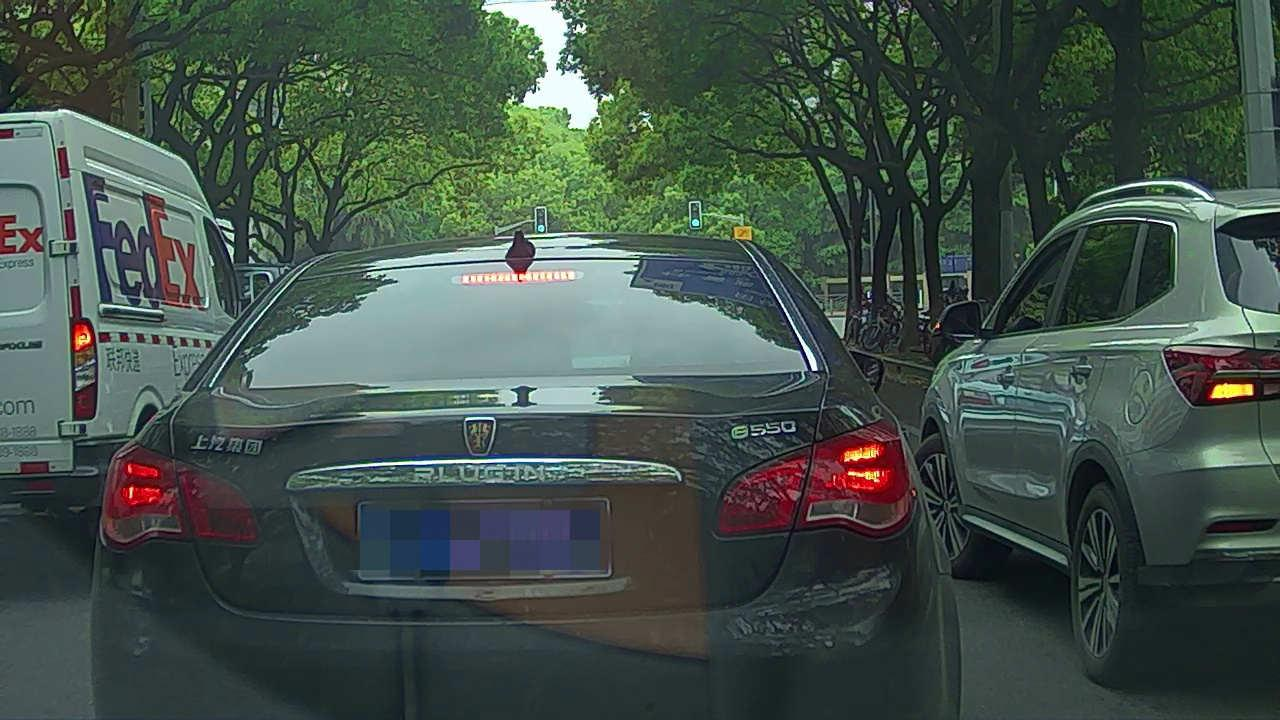traffic_light: (689, 202, 702, 229), (535, 207, 547, 234)
